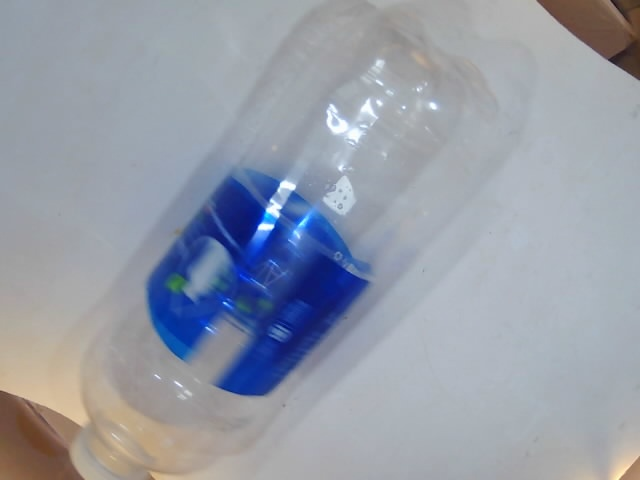plastic: (59, 5, 503, 480)
